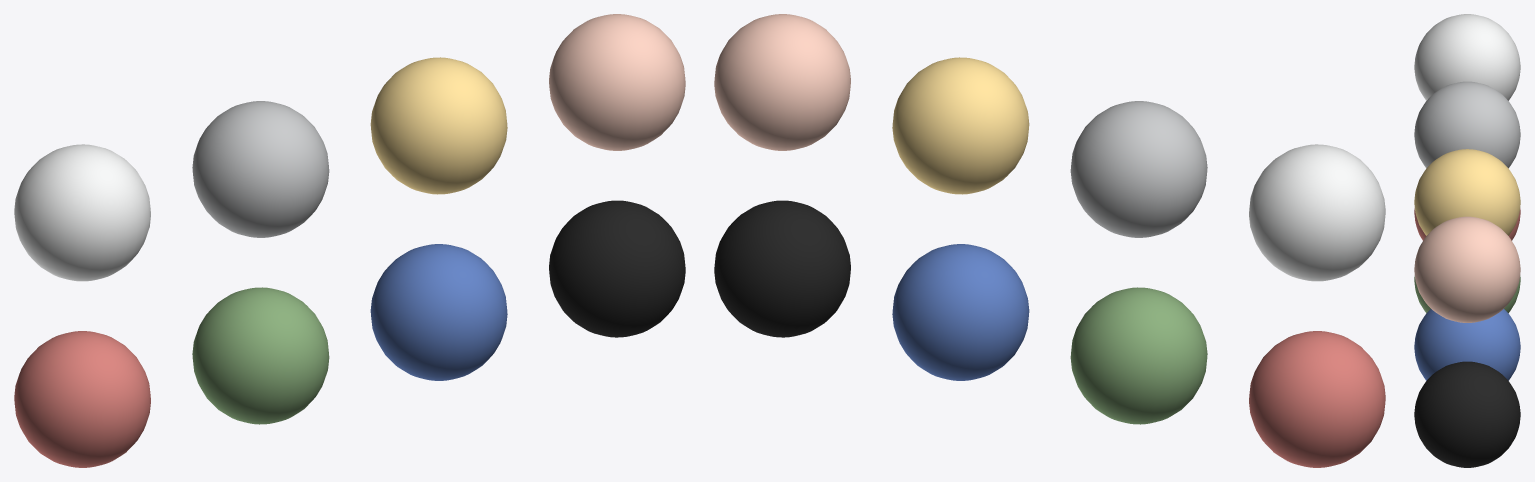
The picture shows the model from 3 angles, left to right: view 1: azimuth 30°, elevation 25°; view 2: azimuth 150°, elevation 25°; view 3: azimuth 270°, elevation 25°; orthographic projection. The views are drawn at different scales.
Parts seen in each view (by area): view 1: Grid_r0_c3, Grid_r1_c0, Grid_r0_c2, Grid_r1_c1, Grid_r0_c1, Grid_r1_c2, Grid_r0_c0, Grid_r1_c3; view 2: Grid_r0_c3, Grid_r1_c0, Grid_r0_c2, Grid_r1_c1, Grid_r0_c1, Grid_r1_c2, Grid_r0_c0, Grid_r1_c3; view 3: Grid_r0_c3, Grid_r1_c3, Grid_r1_c1, Grid_r1_c2, Grid_r1_c0, Grid_r0_c2, Grid_r0_c1, Grid_r0_c0.
Boxes of the visible parts, x1,y1,x2,y2 form: Grid_r0_c3: [549, 200, 685, 337]; Grid_r1_c0: [14, 144, 150, 281]; Grid_r0_c2: [370, 244, 507, 380]; Grid_r1_c1: [192, 101, 329, 237]; Grid_r0_c1: [192, 287, 329, 424]; Grid_r1_c2: [370, 57, 507, 194]; Grid_r0_c0: [14, 331, 150, 467]; Grid_r1_c3: [549, 14, 685, 150]; Grid_r0_c3: [714, 200, 850, 337]; Grid_r1_c0: [1249, 144, 1385, 281]; Grid_r0_c2: [892, 244, 1029, 380]; Grid_r1_c1: [1070, 101, 1207, 237]; Grid_r0_c1: [1070, 287, 1207, 424]; Grid_r1_c2: [892, 57, 1029, 194]; Grid_r0_c0: [1249, 331, 1385, 467]; Grid_r1_c3: [714, 14, 850, 150]; Grid_r0_c3: [1414, 361, 1520, 467]; Grid_r1_c3: [1414, 216, 1520, 322]; Grid_r1_c1: [1414, 81, 1520, 168]; Grid_r1_c2: [1414, 149, 1520, 235]; Grid_r1_c0: [1414, 14, 1520, 100]; Grid_r0_c2: [1414, 309, 1520, 380]; Grid_r0_c1: [1414, 276, 1520, 312]; Grid_r0_c0: [1414, 208, 1520, 240].
Bounding box in the file's own units: 5.5 × 2.5 × 1.
